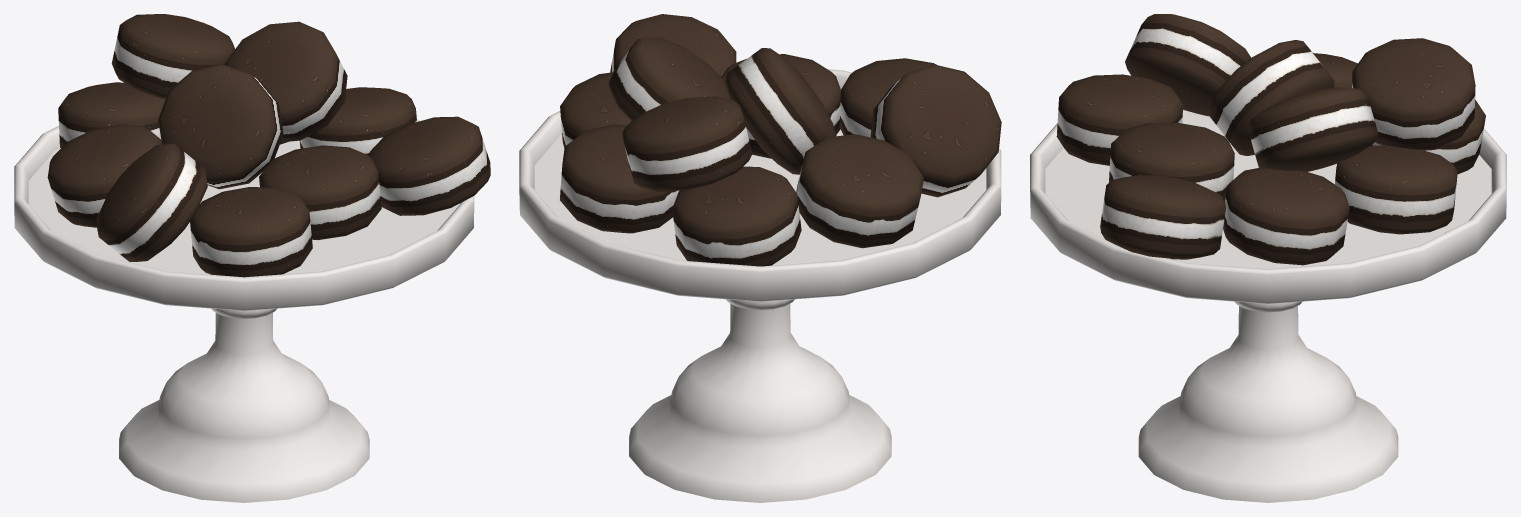
File: BuffetDesserts02_2.FBX
3 renders of one model, left to right at view 1: azimuth 30°, elevation 25°; view 2: azimuth 150°, elevation 25°; view 3: azimuth 270°, elevation 25°, orthographic. The views are drawn at different scales.
Parts seen in each view (by area): view 1: BuffetDesserts02_2; view 2: BuffetDesserts02_2; view 3: BuffetDesserts02_2.
Part boxes in pixels (<box>): BuffetDesserts02_2: <box>14,14,490,502</box>; BuffetDesserts02_2: <box>519,14,1001,502</box>; BuffetDesserts02_2: <box>1030,14,1506,502</box>.
Size of what is drawn, in the model's own units: 0.3291 by 0.298 by 0.3241.
